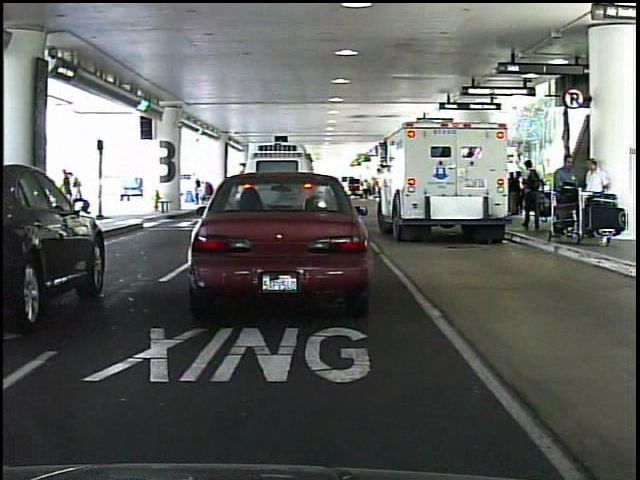person: (55, 168, 76, 225), (64, 167, 85, 223)
